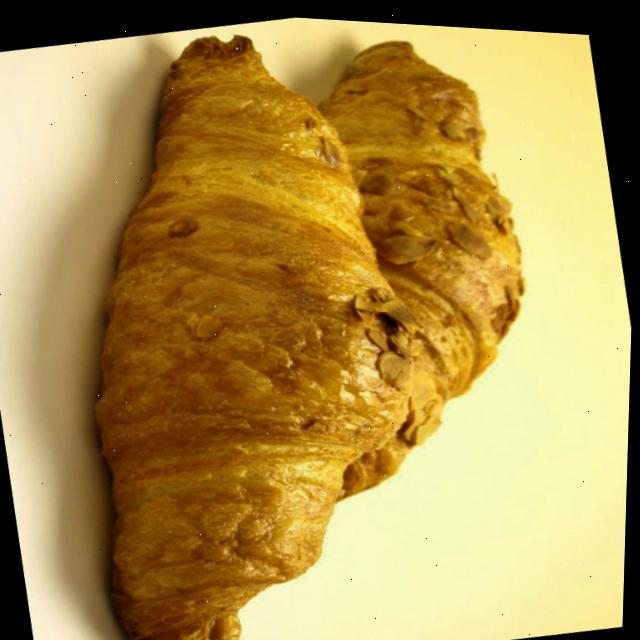面包点心: (4, 1, 495, 640)
